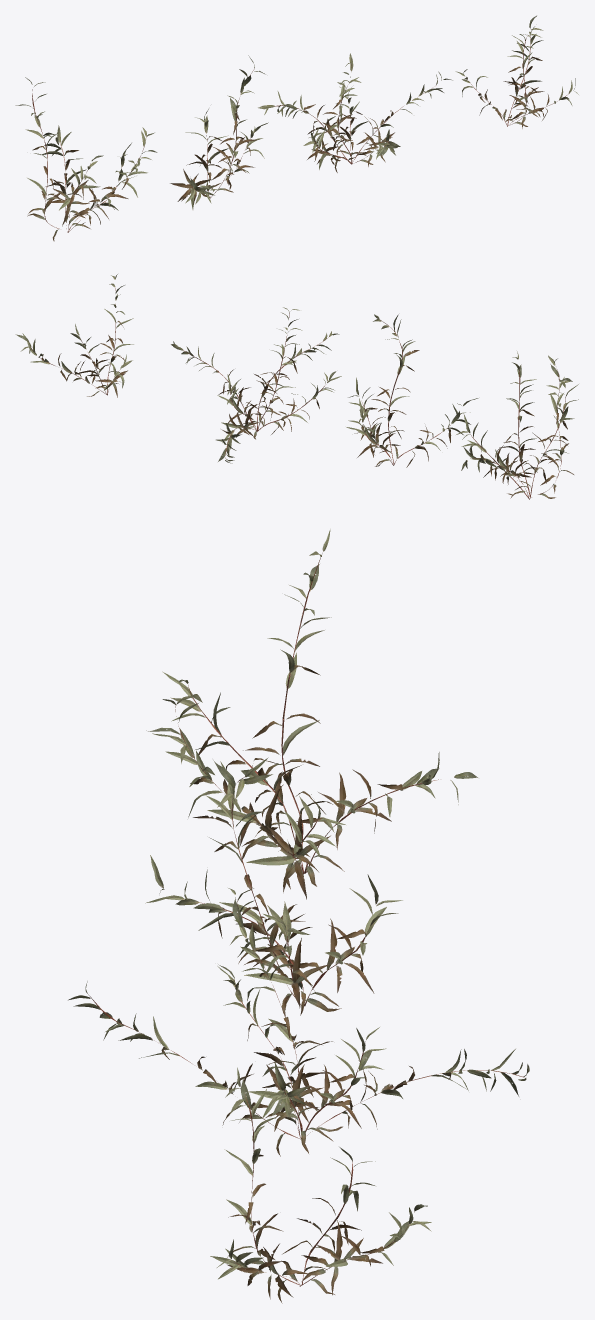
The model's file is shrub_02.glb.
3 renders of one model, top to bottom at view 1: azimuth 30°, elevation 25°; view 2: azimuth 150°, elevation 25°; view 3: azimuth 270°, elevation 25°, orthographic. The views are drawn at different scales.
Visible parts, largest first — view 1: shrub_02_c_LOD0, shrub_02_a_LOD0, shrub_02_b_LOD0, shrub_02_d_LOD0; view 2: shrub_02_a_LOD0, shrub_02_c_LOD0, shrub_02_b_LOD0, shrub_02_d_LOD0; view 3: shrub_02_a_LOD0, shrub_02_c_LOD0, shrub_02_b_LOD0, shrub_02_d_LOD0.
Boxes of the visible parts, x1,y1,x2,y2 form: shrub_02_c_LOD0: (258, 53, 452, 172); shrub_02_a_LOD0: (15, 77, 157, 241); shrub_02_b_LOD0: (170, 55, 268, 209); shrub_02_d_LOD0: (455, 15, 578, 128); shrub_02_a_LOD0: (456, 351, 578, 499); shrub_02_c_LOD0: (171, 307, 341, 463); shrub_02_b_LOD0: (346, 314, 478, 467); shrub_02_d_LOD0: (15, 274, 133, 397); shrub_02_a_LOD0: (146, 529, 477, 899); shrub_02_c_LOD0: (68, 888, 529, 1156); shrub_02_b_LOD0: (145, 757, 402, 1017); shrub_02_d_LOD0: (210, 1067, 431, 1303).
Bounding box in the file's own units: 4.92 × 1.38 × 1.86.
Materials: 1 (1 with a texture image).
